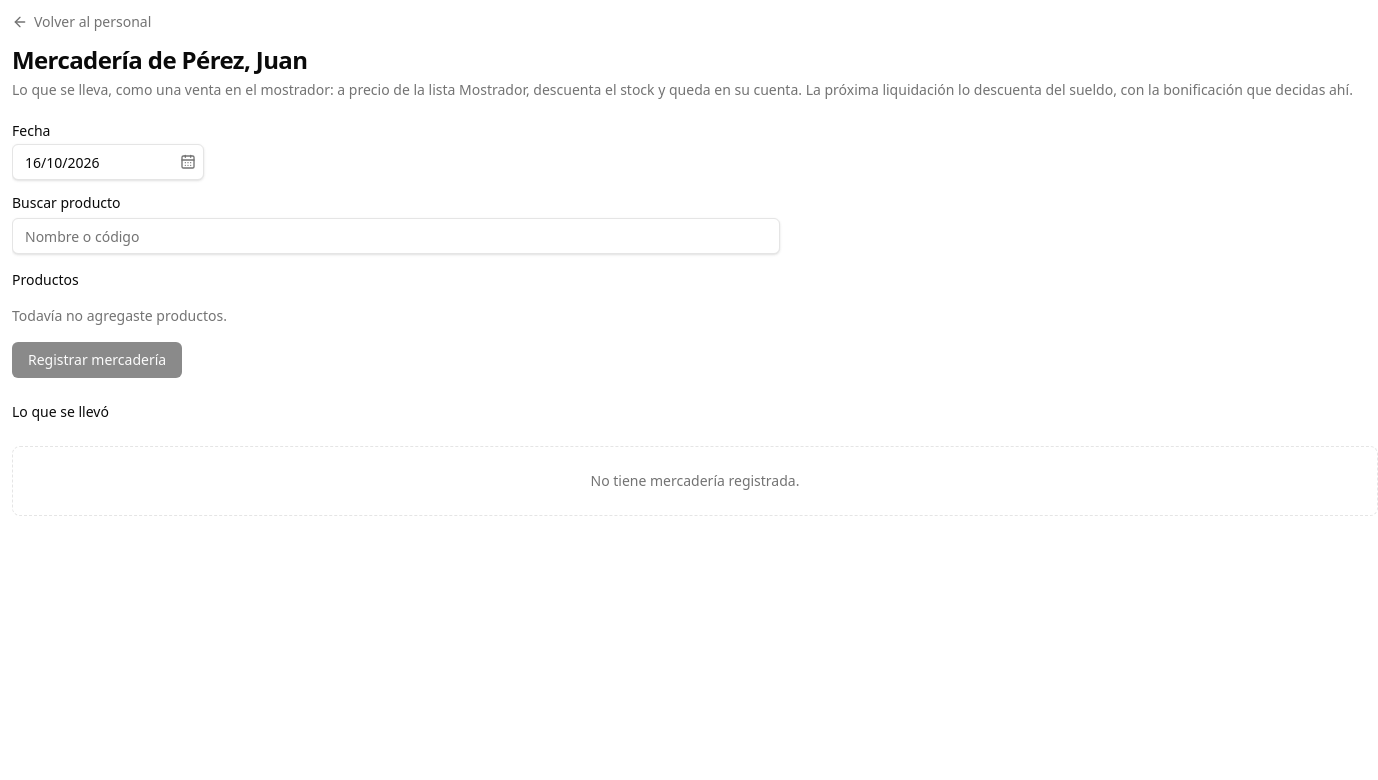
Test case: EmployeeGoodsPage › explains a product without a counter price and does not let it be registered
Expected: the text "No tiene mercadería registrada." is shown, [12, 446, 1377, 516]
Type "asa" into the search field labelled "Buscar producto" at (396, 236), box [12, 218, 780, 254]
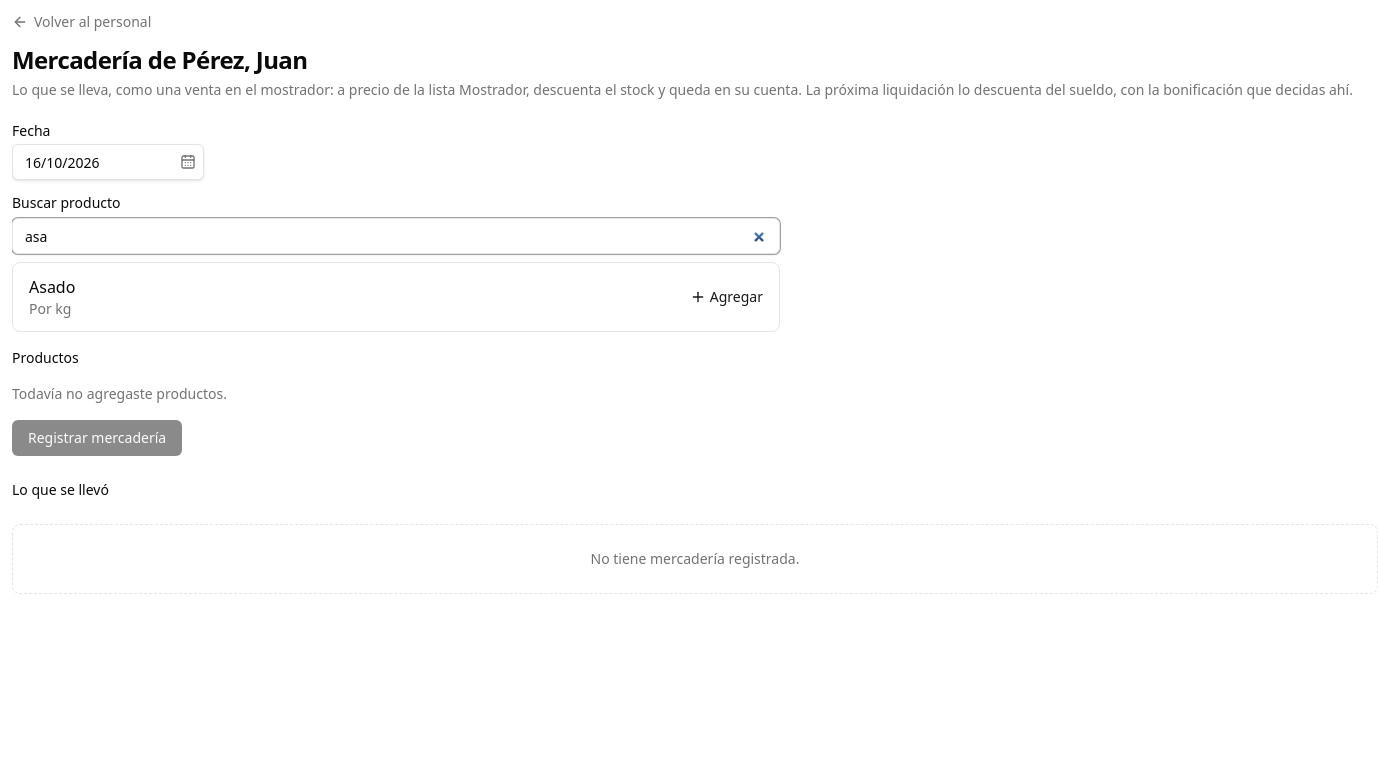
Click the button "Agregar Asado Por kg" at (52, 287), box [12, 262, 780, 332]
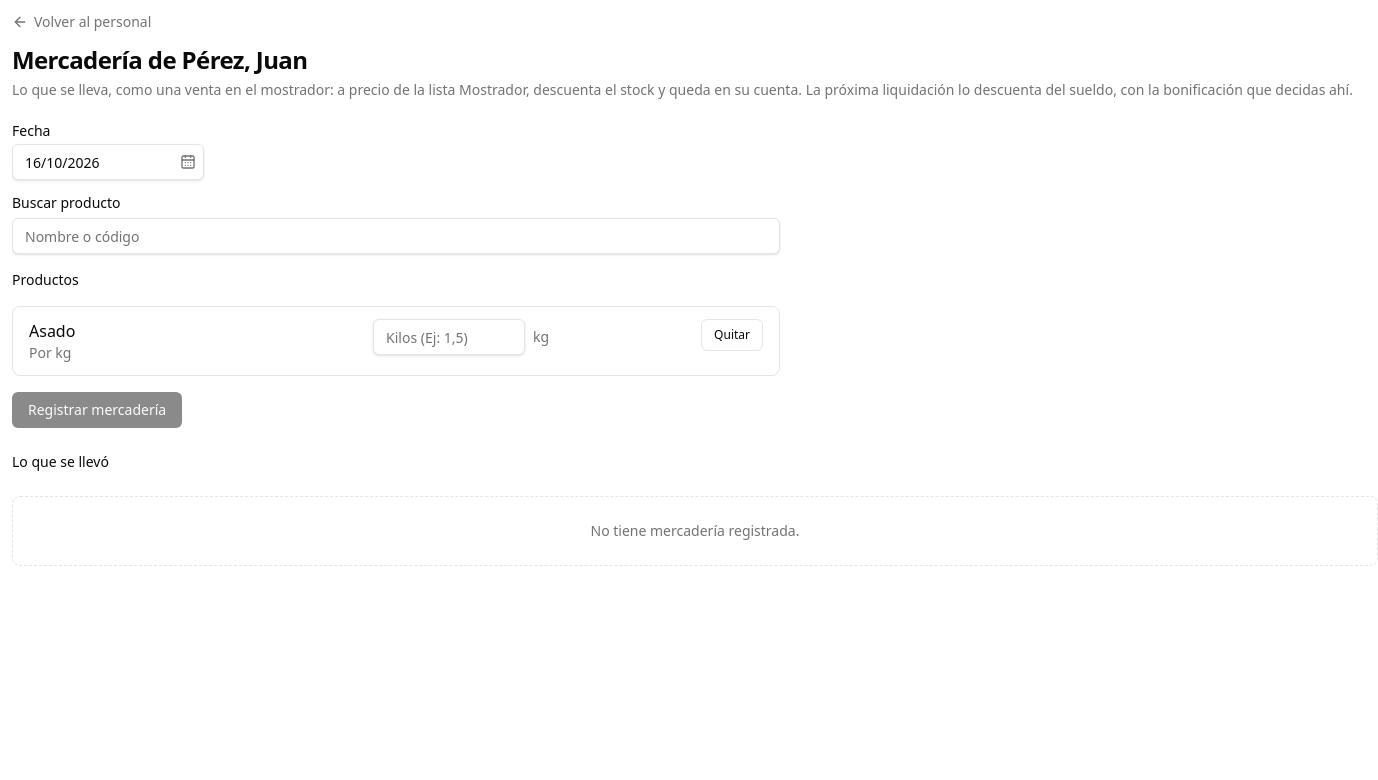
Type "1" into the field named "Cantidad de Asado Por kg" at (449, 337), box [373, 319, 525, 355]
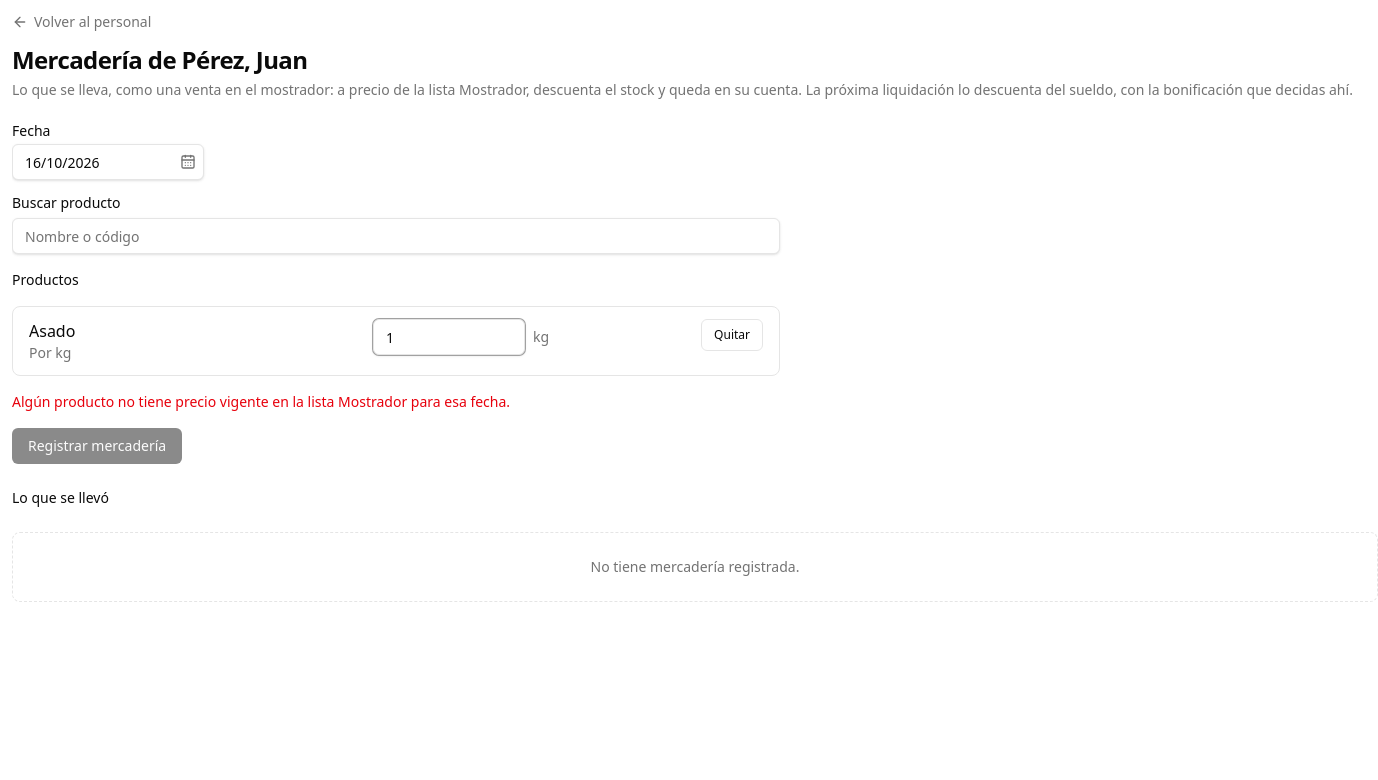
Expected: the button "Registrar mercadería" is disabled, [12, 428, 182, 464]
Result: the text "Algún producto no tiene precio vigente en la lista Mostrador para esa fecha." is shown at [12, 392, 510, 411]
